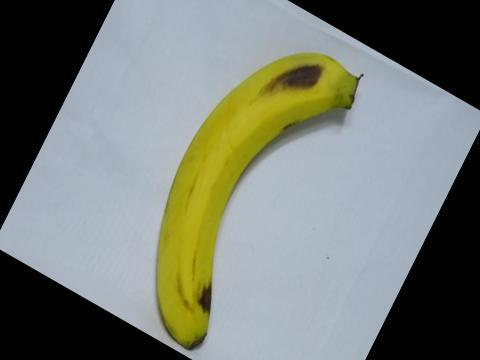freshripe: (136, 38, 370, 353)
